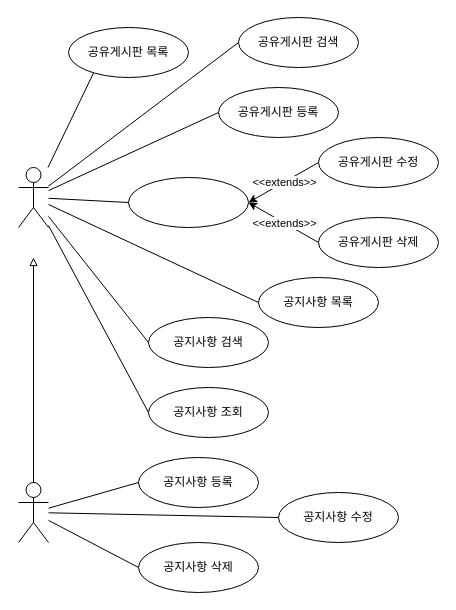
The diagram is 456 pixels wide and 610 high, and some of its shapes have lost their labels. Here are the shapes that lost their labels. From the top down, the centre of each, then its label:
At (x=33, y=197): "사용자".
At (x=188, y=202): "공유게시판 조회".
At (x=33, y=512): "관리자".
